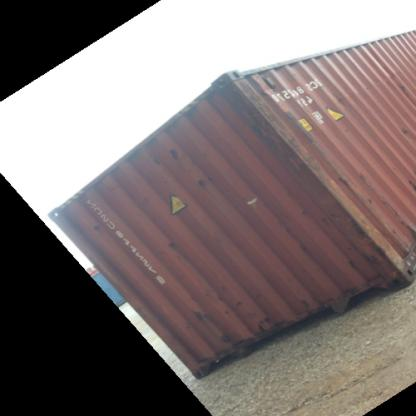Damage: (219, 80, 323, 183), (350, 206, 404, 286), (188, 276, 244, 345), (98, 172, 136, 193), (320, 195, 346, 225), (193, 166, 219, 195), (333, 169, 357, 193), (254, 310, 274, 334), (163, 137, 181, 159), (90, 216, 107, 237), (402, 169, 415, 193), (392, 76, 409, 94), (279, 217, 293, 237), (298, 239, 312, 257), (164, 234, 178, 250), (396, 125, 412, 138), (296, 290, 309, 305), (335, 89, 346, 102), (344, 257, 356, 267), (300, 203, 307, 215)
